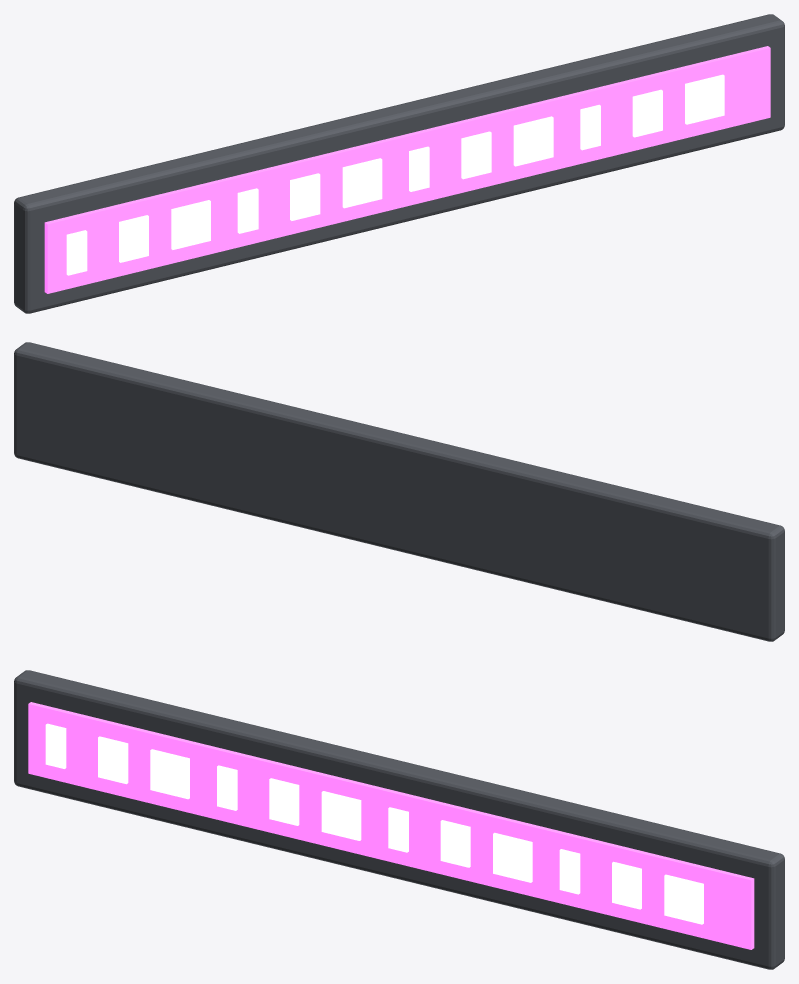
The model's file is wall_screen_data_ticker.glb.
The picture shows the model from 3 angles, top to bottom: view 1: azimuth 30°, elevation 25°; view 2: azimuth 150°, elevation 25°; view 3: azimuth 330°, elevation 25°; orthographic projection.
Parts seen in each view (by area): view 1: GD_wall_screen_data_ticker__m0, GD_wall_screen_data_ticker__m1, GD_wall_screen_data_ticker__m2; view 2: GD_wall_screen_data_ticker__m0; view 3: GD_wall_screen_data_ticker__m0, GD_wall_screen_data_ticker__m1, GD_wall_screen_data_ticker__m2.
Part boxes in pixels (bbox=[...]): GD_wall_screen_data_ticker__m0: bbox=[14, 14, 784, 313]; GD_wall_screen_data_ticker__m1: bbox=[44, 46, 770, 293]; GD_wall_screen_data_ticker__m2: bbox=[66, 74, 724, 275]; GD_wall_screen_data_ticker__m0: bbox=[14, 342, 784, 641]; GD_wall_screen_data_ticker__m0: bbox=[14, 670, 784, 969]; GD_wall_screen_data_ticker__m1: bbox=[28, 702, 754, 949]; GD_wall_screen_data_ticker__m2: bbox=[45, 723, 703, 924].
Size of the model in its own units: 1.6 by 0.22 by 0.066.
